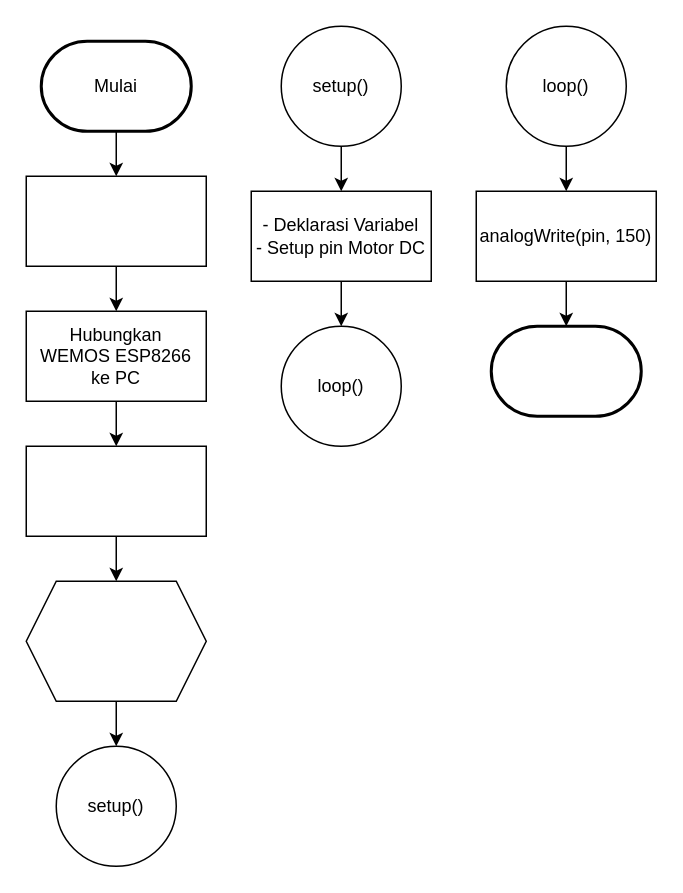
This 683x893 diagram has some shape labels left out. The shapes that lost their labels are listed below. From the top down, each one's centre as x and y in pixels, then its label:
At point (115, 220): "Persiapan Alat dan Bahan".
At point (565, 370): "Selesai".
At point (115, 490): "Buka IDE Arduino".
At point (115, 640): "Inisialisasi: - Port USB & Board - Include Library".
